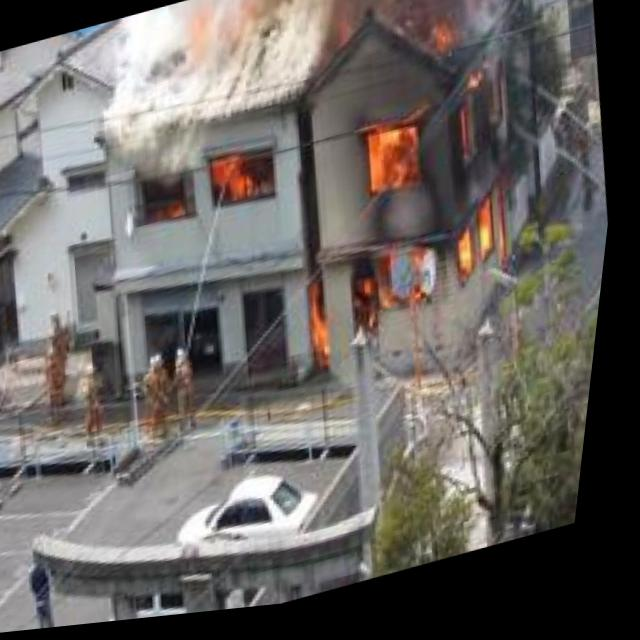Fire: (264, 9, 587, 380), (156, 127, 305, 247)
